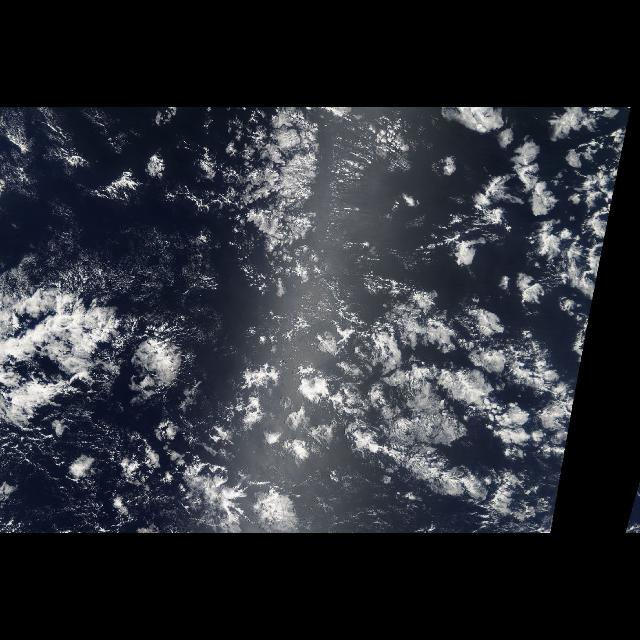Flower: (250, 109, 632, 522)
Sugar: (44, 208, 182, 290)
